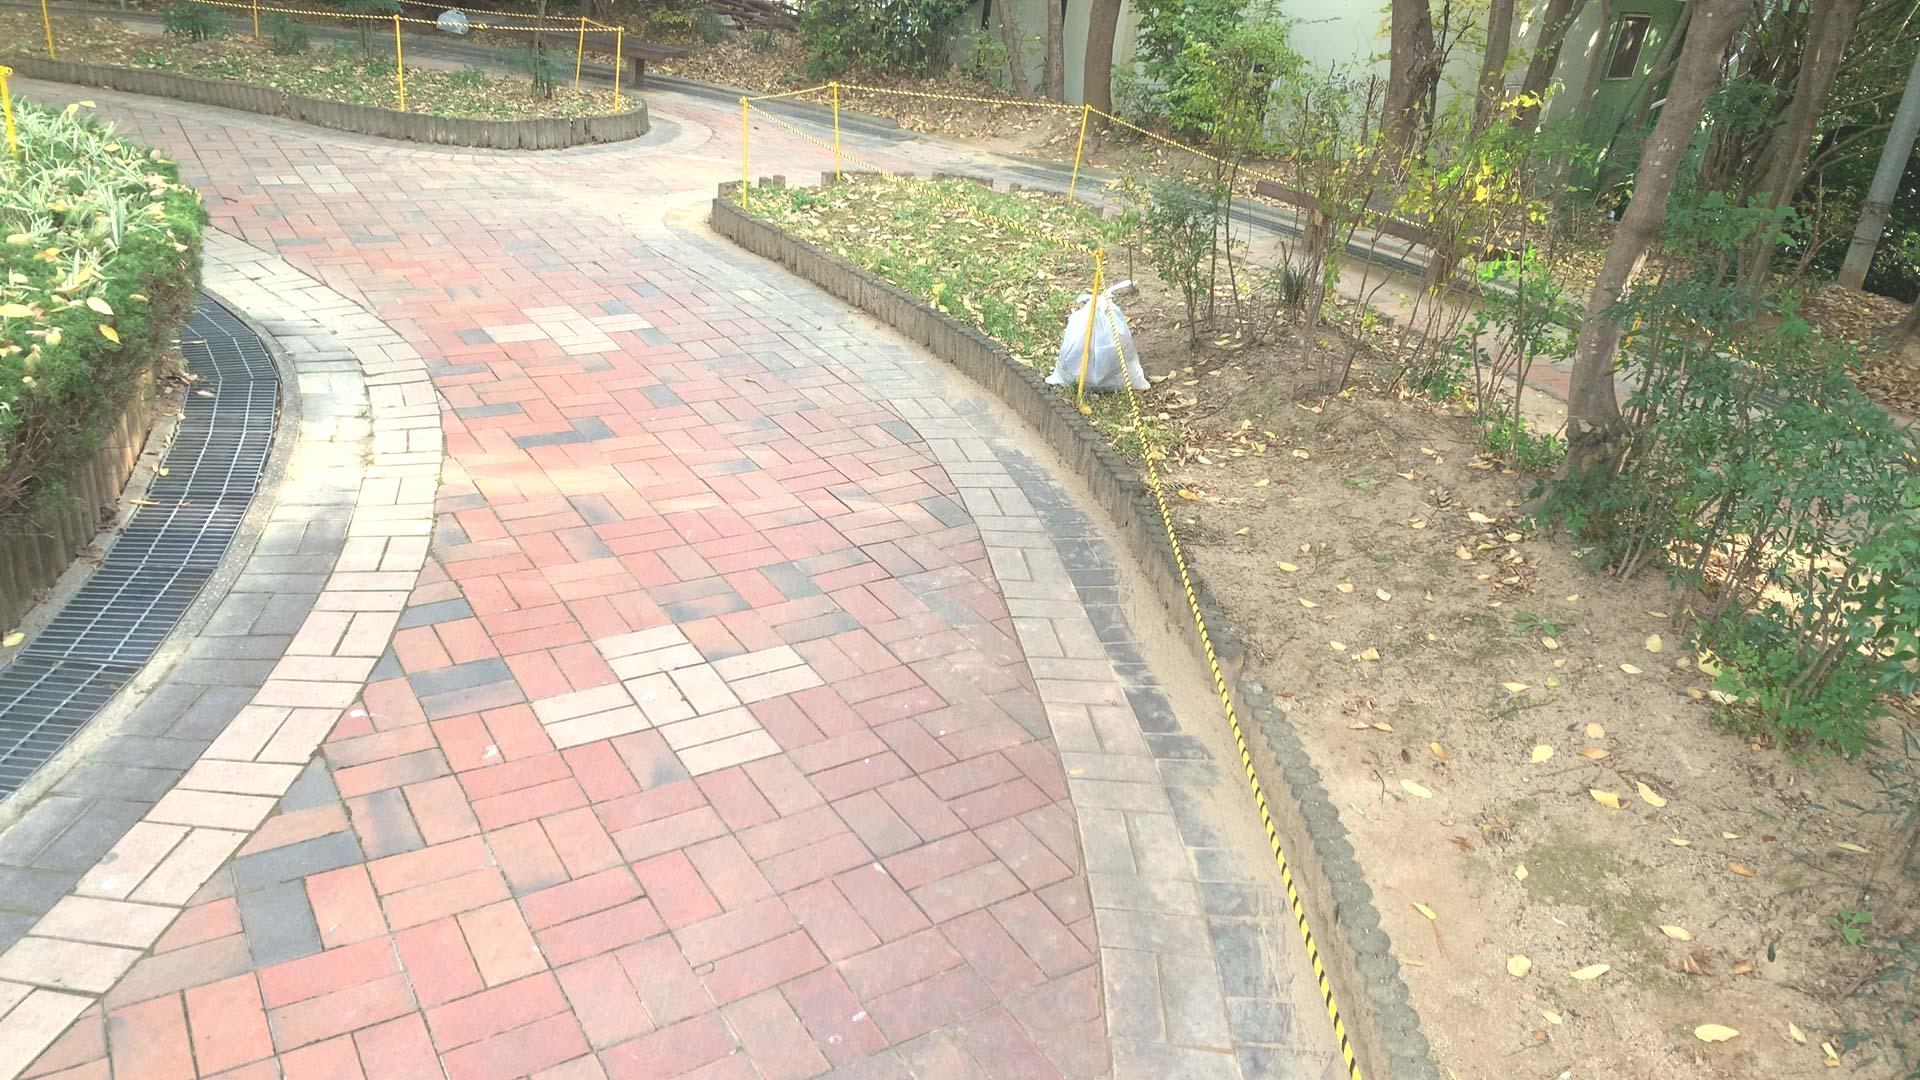white_bag: (1042, 272, 1158, 409)
